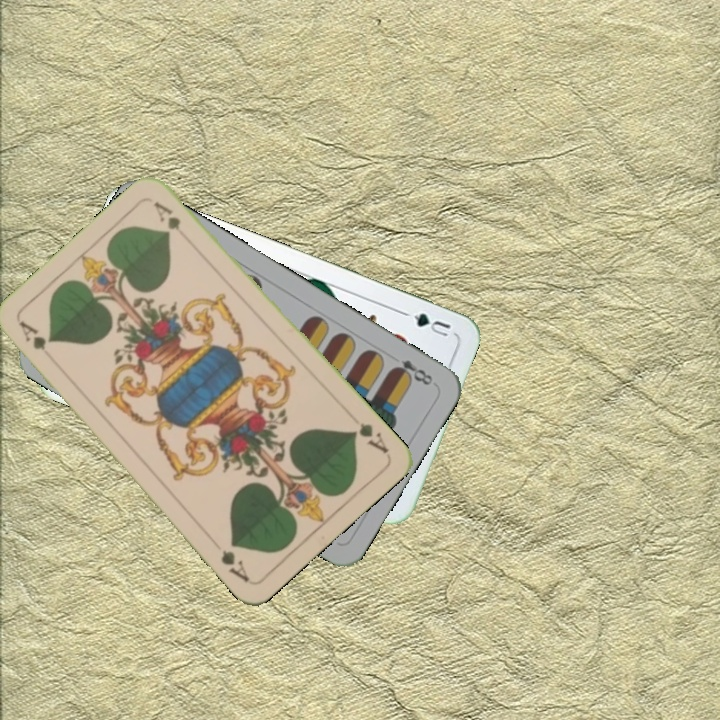E8: (387, 355, 436, 388)
GA: (14, 317, 59, 366), (348, 418, 392, 457)
GU: (409, 309, 453, 340)
